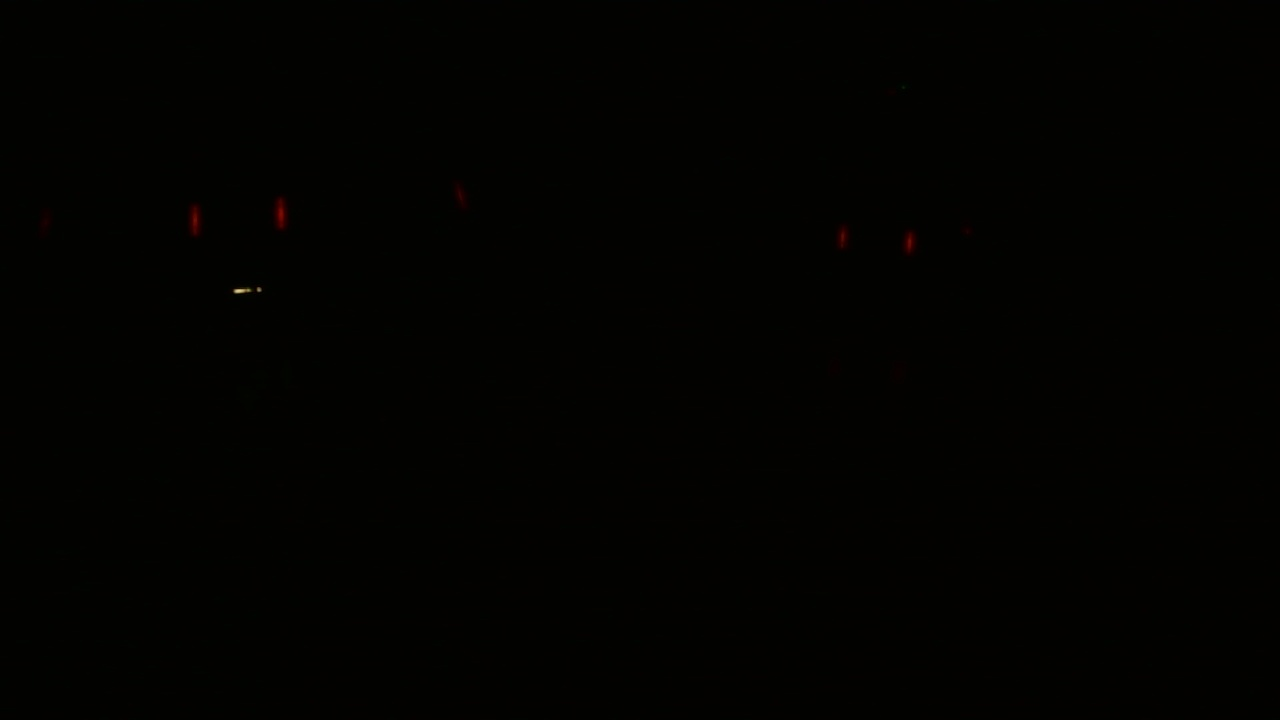pair1: (178, 187, 298, 247)
pair2: (834, 216, 920, 263)
